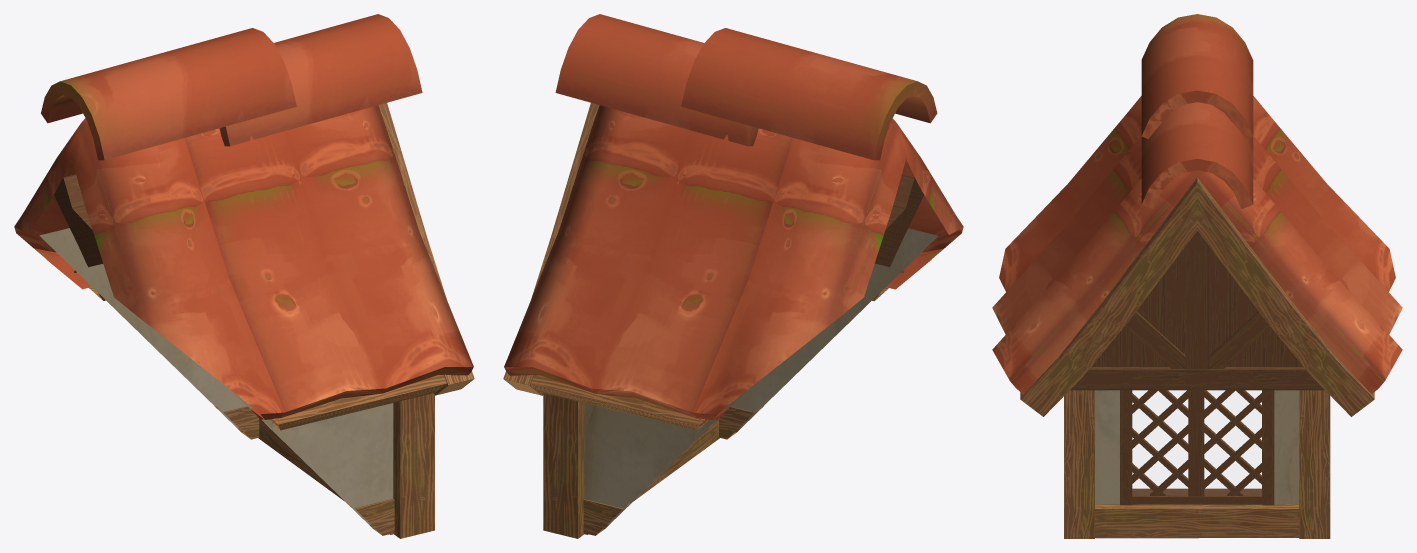
The model's file is Roof_Dormer_RoundTile.gltf.
3 renders of one model, left to right at view 1: azimuth 30°, elevation 25°; view 2: azimuth 150°, elevation 25°; view 3: azimuth 270°, elevation 25°, orthographic. The views are drawn at different scales.
Parts seen in each view (by area): view 1: Roof_Dormer_RoundTile; view 2: Roof_Dormer_RoundTile; view 3: Roof_Dormer_RoundTile.
Boxes of the visible parts, x1=… form: Roof_Dormer_RoundTile: x1=14, y1=14, x2=474, y2=538; Roof_Dormer_RoundTile: x1=503, y1=14, x2=963, y2=538; Roof_Dormer_RoundTile: x1=992, y1=14, x2=1402, y2=538.
Bounding box in the file's own units: 1.97 × 2.67 × 2.44.
4 materials, 3 textured.
